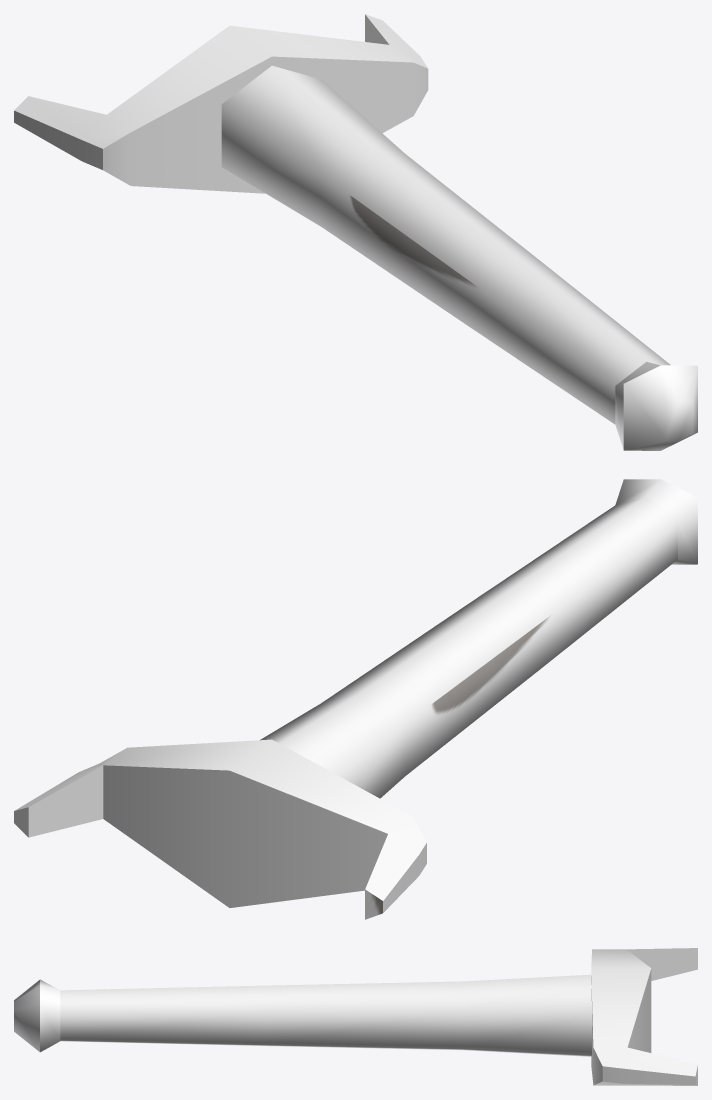
File: hilt5.FBX
3 views of the same model, one above another, from view 1: azimuth 30°, elevation 25°; view 2: azimuth 150°, elevation 25°; view 3: azimuth 270°, elevation 25° (orthographic). The views are drawn at different scales.
Visible parts, largest first — view 1: hilt005; view 2: hilt005; view 3: hilt005.
Boxes of the visible parts, x1,y1,x2,y2 form: hilt005: [14, 14, 697, 450]; hilt005: [14, 479, 697, 919]; hilt005: [14, 948, 697, 1085].
Size of the model in its own units: 0.2512 by 0.5689 by 0.0895.
